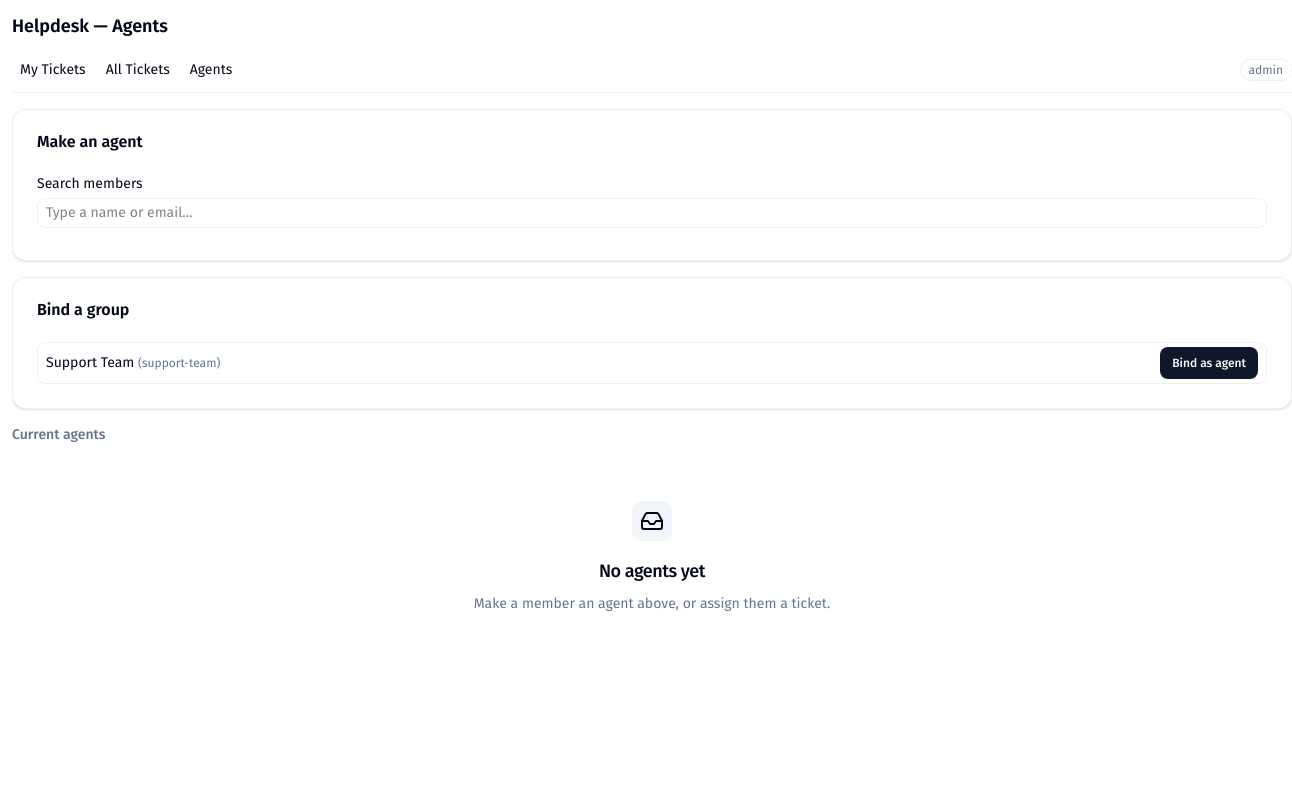
Scenario: AgentsAdminPage › binds a group as an agent through the group picker
Click the button with test id "helpdesk-bind-group-group-1" at (1209,363), box [1160,347,1258,379]
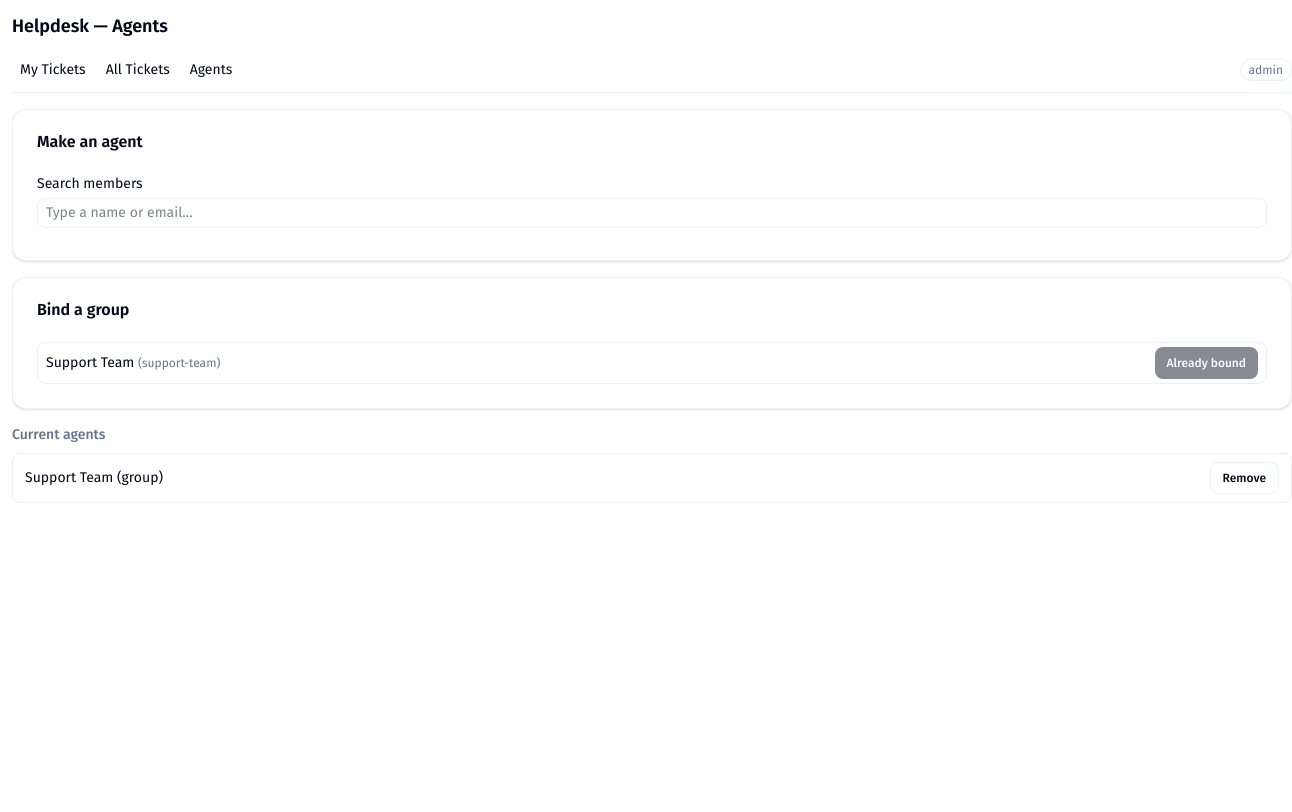
Check: the list item with test id "helpdesk-agent-group-1" is shown, box [12,453,1291,503]
